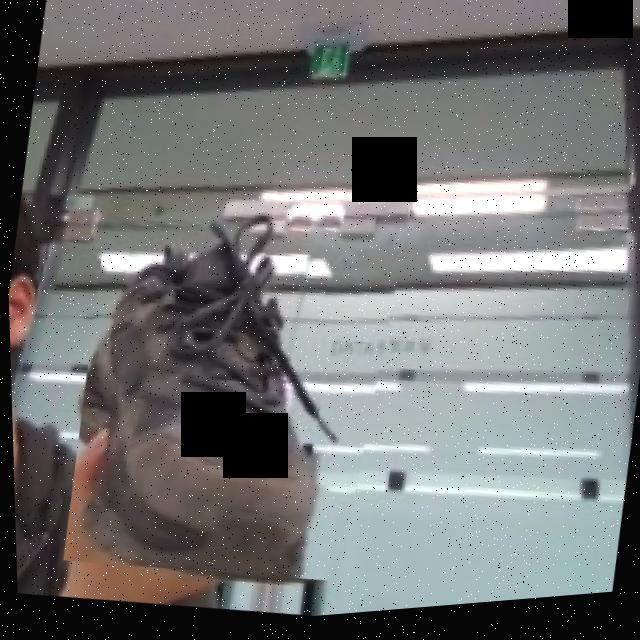shoe: (50, 123, 428, 609)
